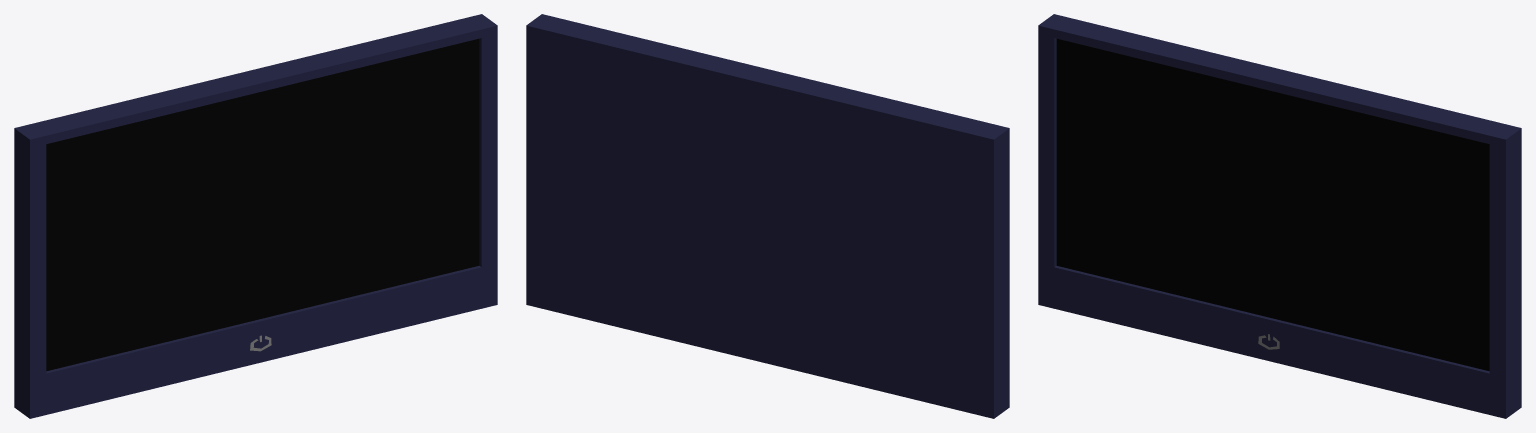
3 views of the same model, side by side, from view 1: azimuth 30°, elevation 25°; view 2: azimuth 150°, elevation 25°; view 3: azimuth 330°, elevation 25° (orthographic).
Visible parts, largest first — view 1: Cube; view 2: Cube; view 3: Cube.
Part boxes in pixels (x1,y1,x2,y2): Cube: (14, 14, 497, 418); Cube: (526, 14, 1009, 418); Cube: (1038, 14, 1521, 418).
Size of the model in its own units: 5.35 by 0.3129 by 3.05.
